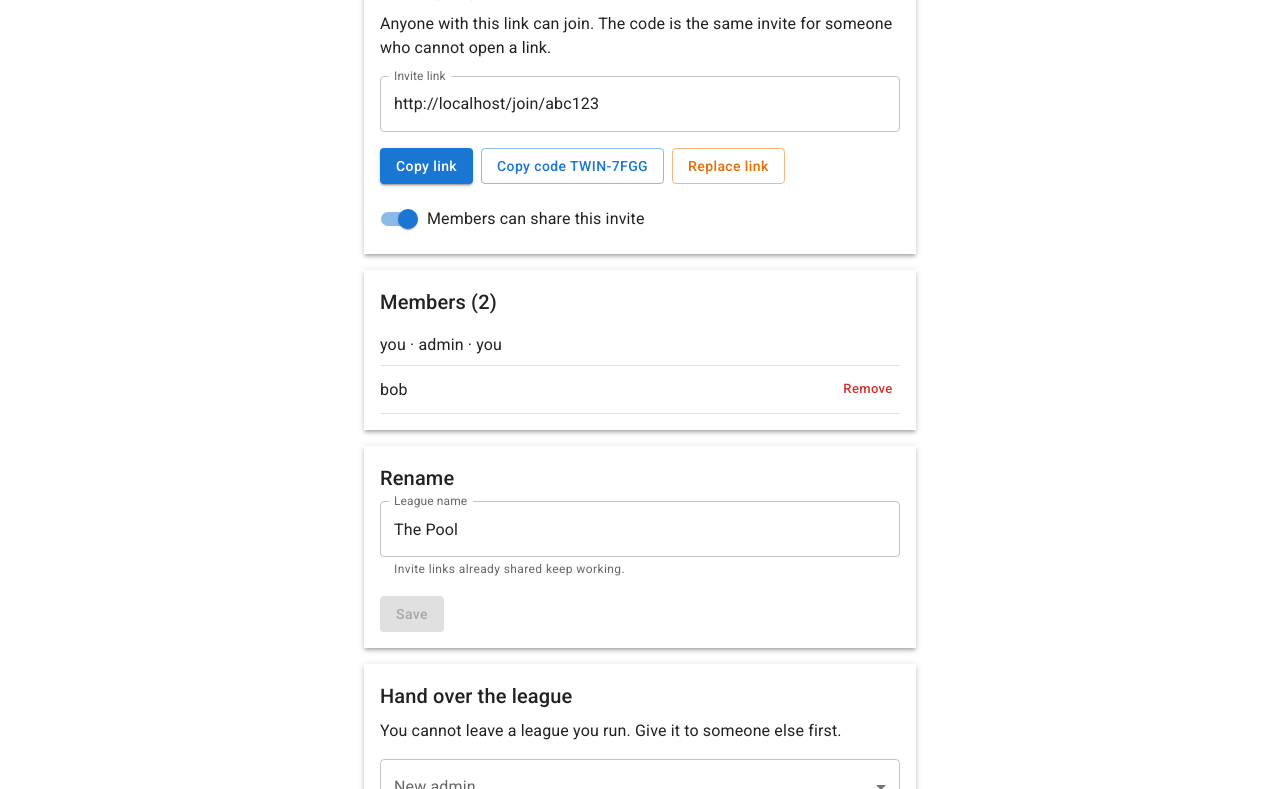
Test: removing someone › removing them says so and reloads
(page scrolled)
Step 1. Click the button "Remove" → coordinates (868, 390), box left=836, top=374, right=900, bottom=405
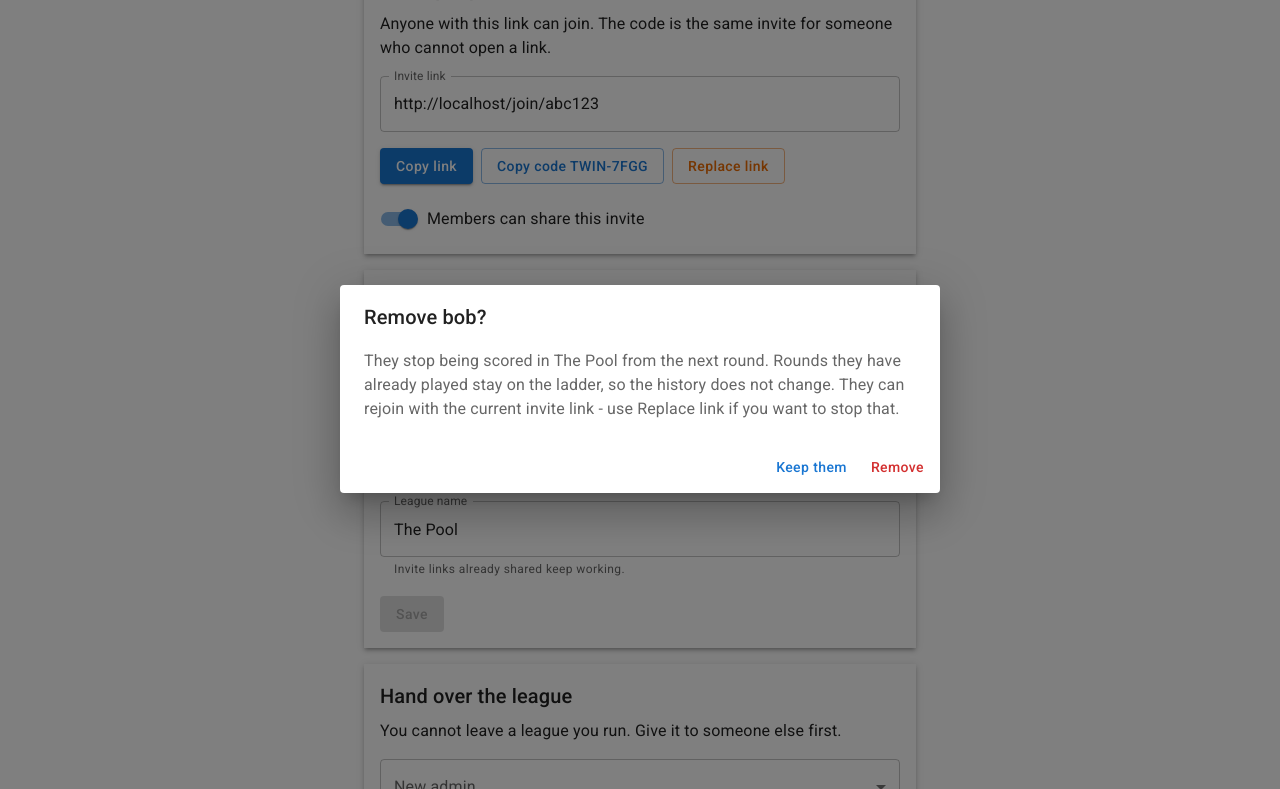
Step 2. Click the button "Remove" → coordinates (897, 467), box left=863, top=449, right=932, bottom=485
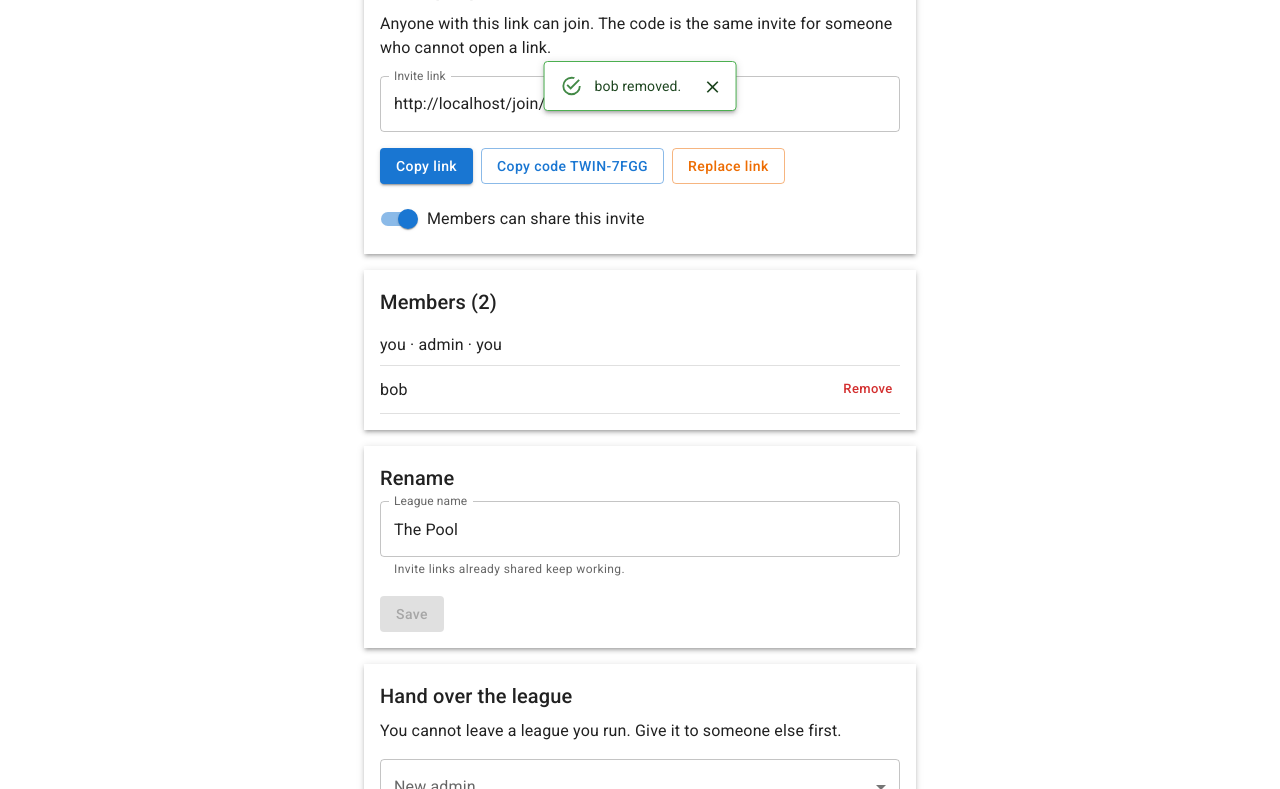
Now the text "bob removed." is shown, box left=595, top=78, right=682, bottom=94
